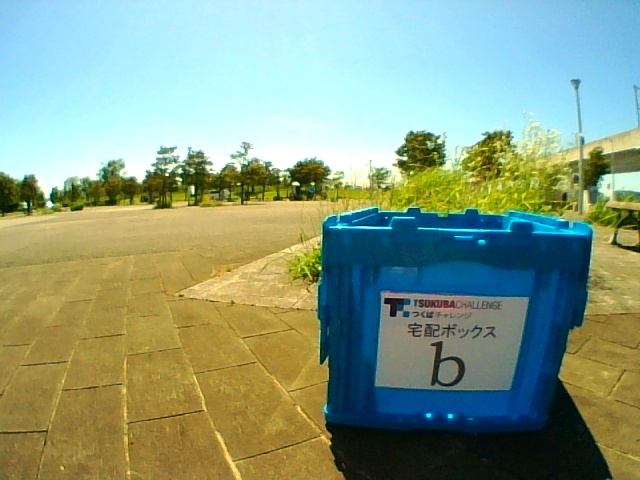blue_box: (338, 211, 542, 427)
tag_b: (383, 296, 511, 390)
